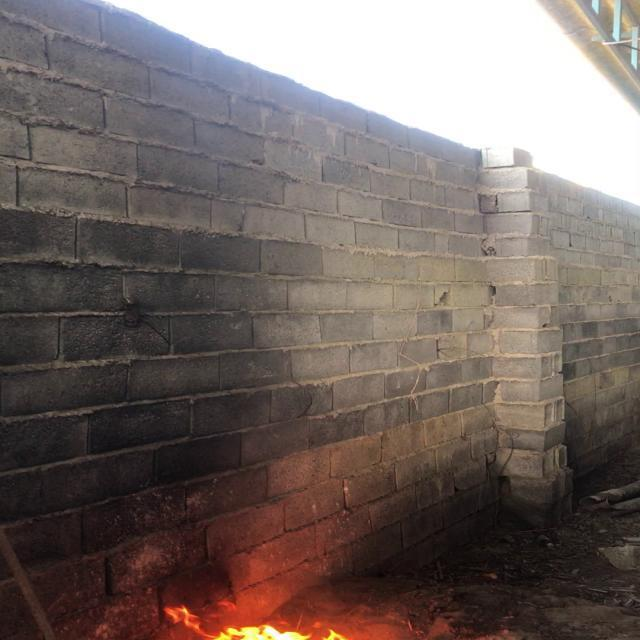Fire: (148, 549, 398, 640)
